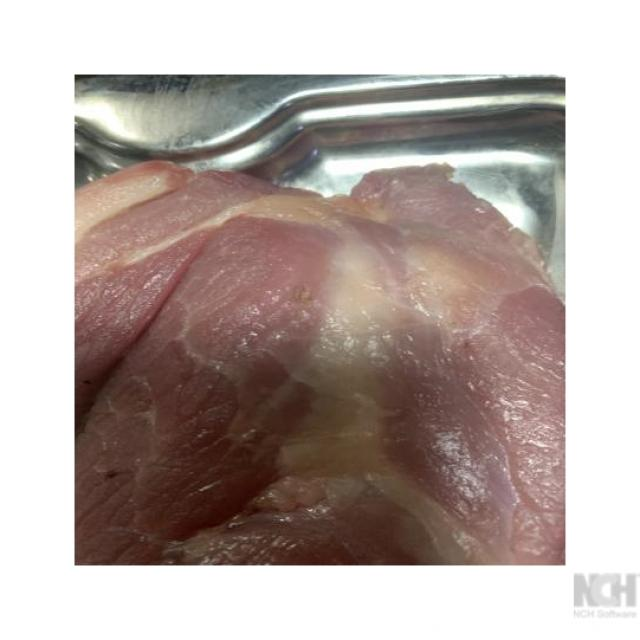rotten meat: (52, 54, 578, 577)
